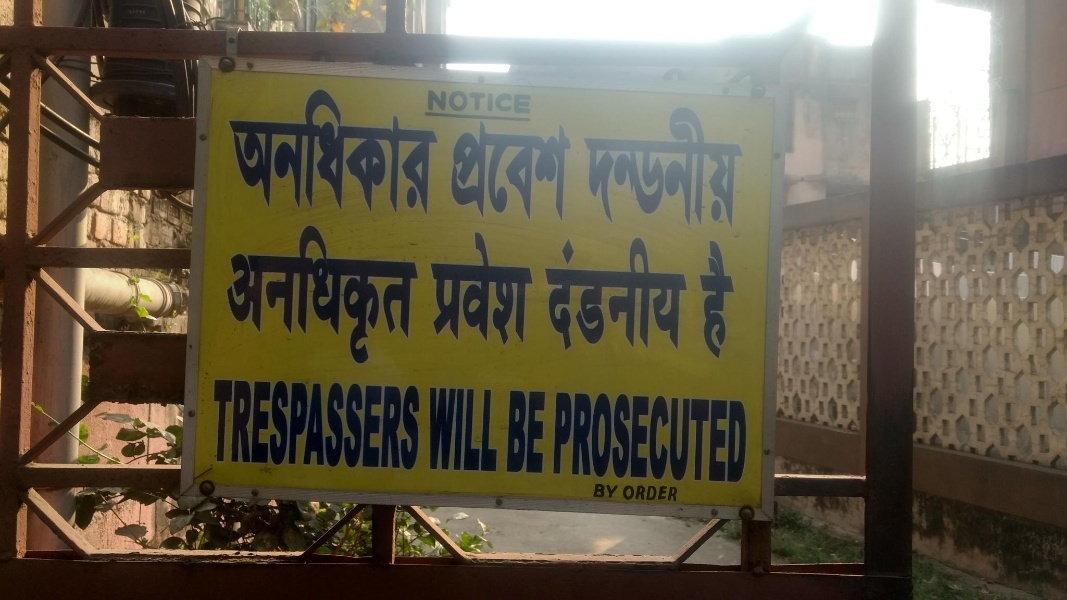text: (241, 225, 256, 373), (257, 225, 272, 373), (273, 225, 288, 373), (289, 225, 304, 373), (305, 225, 320, 373), (321, 225, 336, 373), (337, 225, 352, 373), (353, 225, 368, 373), (369, 225, 384, 373), (385, 225, 400, 373), (401, 225, 416, 373), (241, 79, 256, 215), (257, 79, 272, 215), (273, 79, 288, 215), (289, 79, 304, 215), (305, 79, 320, 215), (321, 79, 336, 215), (337, 79, 352, 215), (353, 79, 368, 215), (369, 79, 384, 215), (385, 79, 400, 215), (401, 79, 416, 215), (417, 79, 432, 215), (545, 233, 560, 365), (561, 233, 576, 365), (577, 233, 592, 365), (593, 233, 608, 365), (609, 233, 624, 365), (625, 233, 640, 365), (641, 233, 656, 365), (657, 233, 672, 365), (673, 233, 688, 365), (593, 101, 608, 231), (609, 101, 624, 231), (625, 101, 640, 231), (641, 101, 656, 231), (657, 101, 672, 231), (673, 101, 688, 231), (689, 101, 704, 231), (705, 101, 720, 231), (721, 101, 736, 231), (737, 101, 752, 231), (433, 222, 448, 350), (449, 222, 464, 350), (465, 222, 480, 350), (481, 222, 496, 350), (497, 222, 512, 350), (513, 222, 528, 350), (705, 237, 720, 362), (721, 237, 736, 362), (229, 225, 240, 373), (465, 117, 480, 224), (481, 117, 496, 224), (497, 117, 512, 224), (513, 117, 528, 224), (529, 117, 544, 224), (545, 117, 560, 224), (561, 117, 575, 224), (229, 79, 240, 215), (561, 391, 576, 488), (577, 391, 592, 488), (593, 391, 608, 488), (609, 391, 624, 488), (625, 391, 640, 488), (641, 391, 656, 488), (657, 391, 672, 488), (673, 391, 688, 488), (689, 391, 704, 488), (705, 391, 720, 488), (721, 391, 736, 488), (225, 377, 240, 472), (241, 377, 256, 472), (257, 377, 272, 472), (273, 377, 288, 472), (289, 377, 304, 472), (305, 377, 320, 472), (321, 377, 336, 472), (337, 377, 352, 472), (353, 377, 368, 472), (369, 377, 384, 472), (385, 377, 400, 472), (401, 377, 416, 472), (433, 384, 448, 475), (449, 384, 464, 475), (465, 384, 480, 475), (481, 384, 496, 475), (513, 387, 528, 478), (529, 387, 544, 478), (737, 391, 751, 488), (452, 117, 464, 224), (211, 377, 224, 472), (737, 237, 746, 362), (433, 79, 441, 215), (529, 222, 537, 350), (586, 101, 592, 231), (552, 391, 560, 488), (417, 225, 422, 373), (497, 384, 505, 475), (545, 387, 553, 478), (505, 387, 512, 478), (700, 237, 704, 362), (417, 377, 422, 472), (689, 233, 692, 365), (433, 90, 448, 115), (449, 90, 464, 115), (465, 90, 480, 115), (481, 90, 496, 115), (497, 90, 512, 115), (513, 90, 528, 115), (428, 384, 432, 475), (625, 480, 640, 503), (641, 480, 656, 503), (657, 480, 672, 503), (593, 481, 608, 500), (609, 481, 622, 500), (673, 480, 682, 503), (529, 90, 536, 115), (431, 222, 432, 350), (427, 90, 432, 115), (620, 480, 624, 503)
